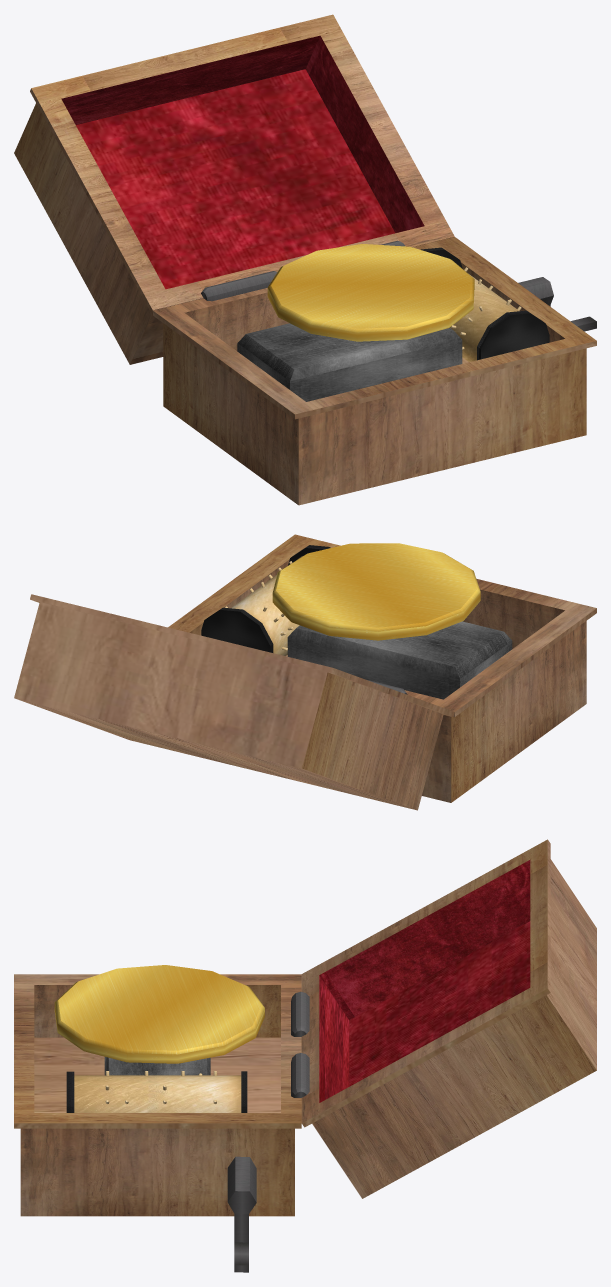
The model's file is MusicBoxFixed.fbx.
3 views of the same model, one above another, from view 1: azimuth 30°, elevation 25°; view 2: azimuth 150°, elevation 25°; view 3: azimuth 270°, elevation 25° (orthographic).
Parts seen in each view (by area): view 1: cover, box, disc, base, rubber, roll, hinge1, crank; view 2: cover, box, disc, base, rubber, roll; view 3: cover, box, disc, roll, crank, base, hinge1, hinge2, rubber.
Part boxes in pixels (x1,y1,x2,y2): cover: [14, 14, 454, 364]; box: [153, 237, 596, 505]; disc: [267, 244, 474, 341]; base: [237, 323, 462, 401]; rubber: [421, 247, 549, 360]; roll: [450, 273, 519, 362]; hinge1: [201, 271, 277, 301]; crank: [518, 277, 596, 331]; cover: [14, 594, 454, 810]; box: [168, 534, 596, 802]; disc: [272, 543, 480, 640]; base: [287, 621, 512, 699]; rubber: [201, 545, 330, 652]; roll: [231, 556, 302, 655]; cover: [301, 839, 596, 1198]; box: [14, 974, 301, 1216]; disc: [54, 965, 264, 1063]; roll: [74, 1075, 241, 1112]; crank: [227, 1156, 256, 1272]; base: [104, 1057, 210, 1075]; hinge1: [291, 991, 309, 1036]; hinge2: [291, 1053, 309, 1097]; rubber: [66, 1071, 247, 1112].
Bounding box in the file's own units: 4.53 × 2.4 × 5.5.
7 materials, 7 textured.
